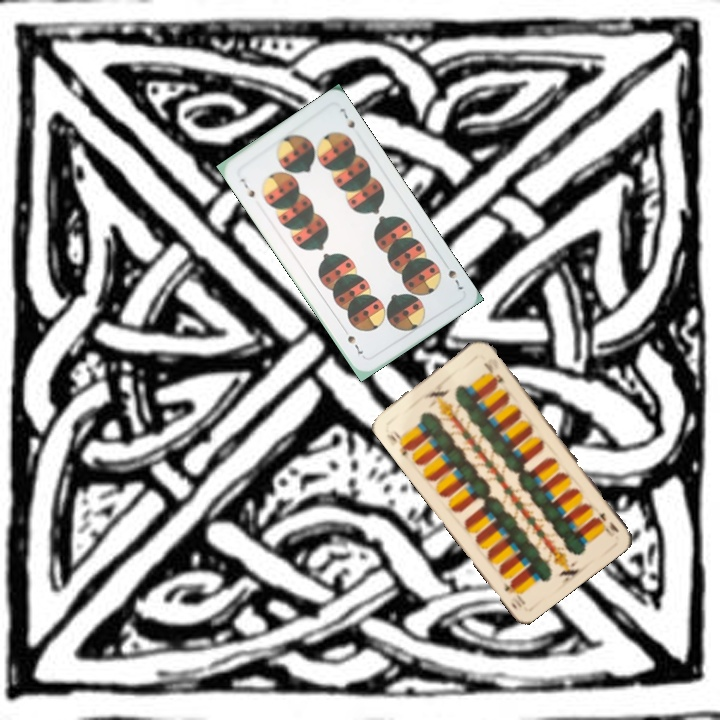E10: (382, 426, 415, 459), (594, 508, 622, 537)
S7: (444, 266, 467, 292), (236, 174, 257, 200)
